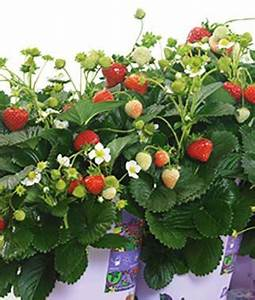Fresa: (1, 103, 32, 135), (101, 57, 130, 91), (184, 134, 215, 164), (82, 172, 109, 196)
